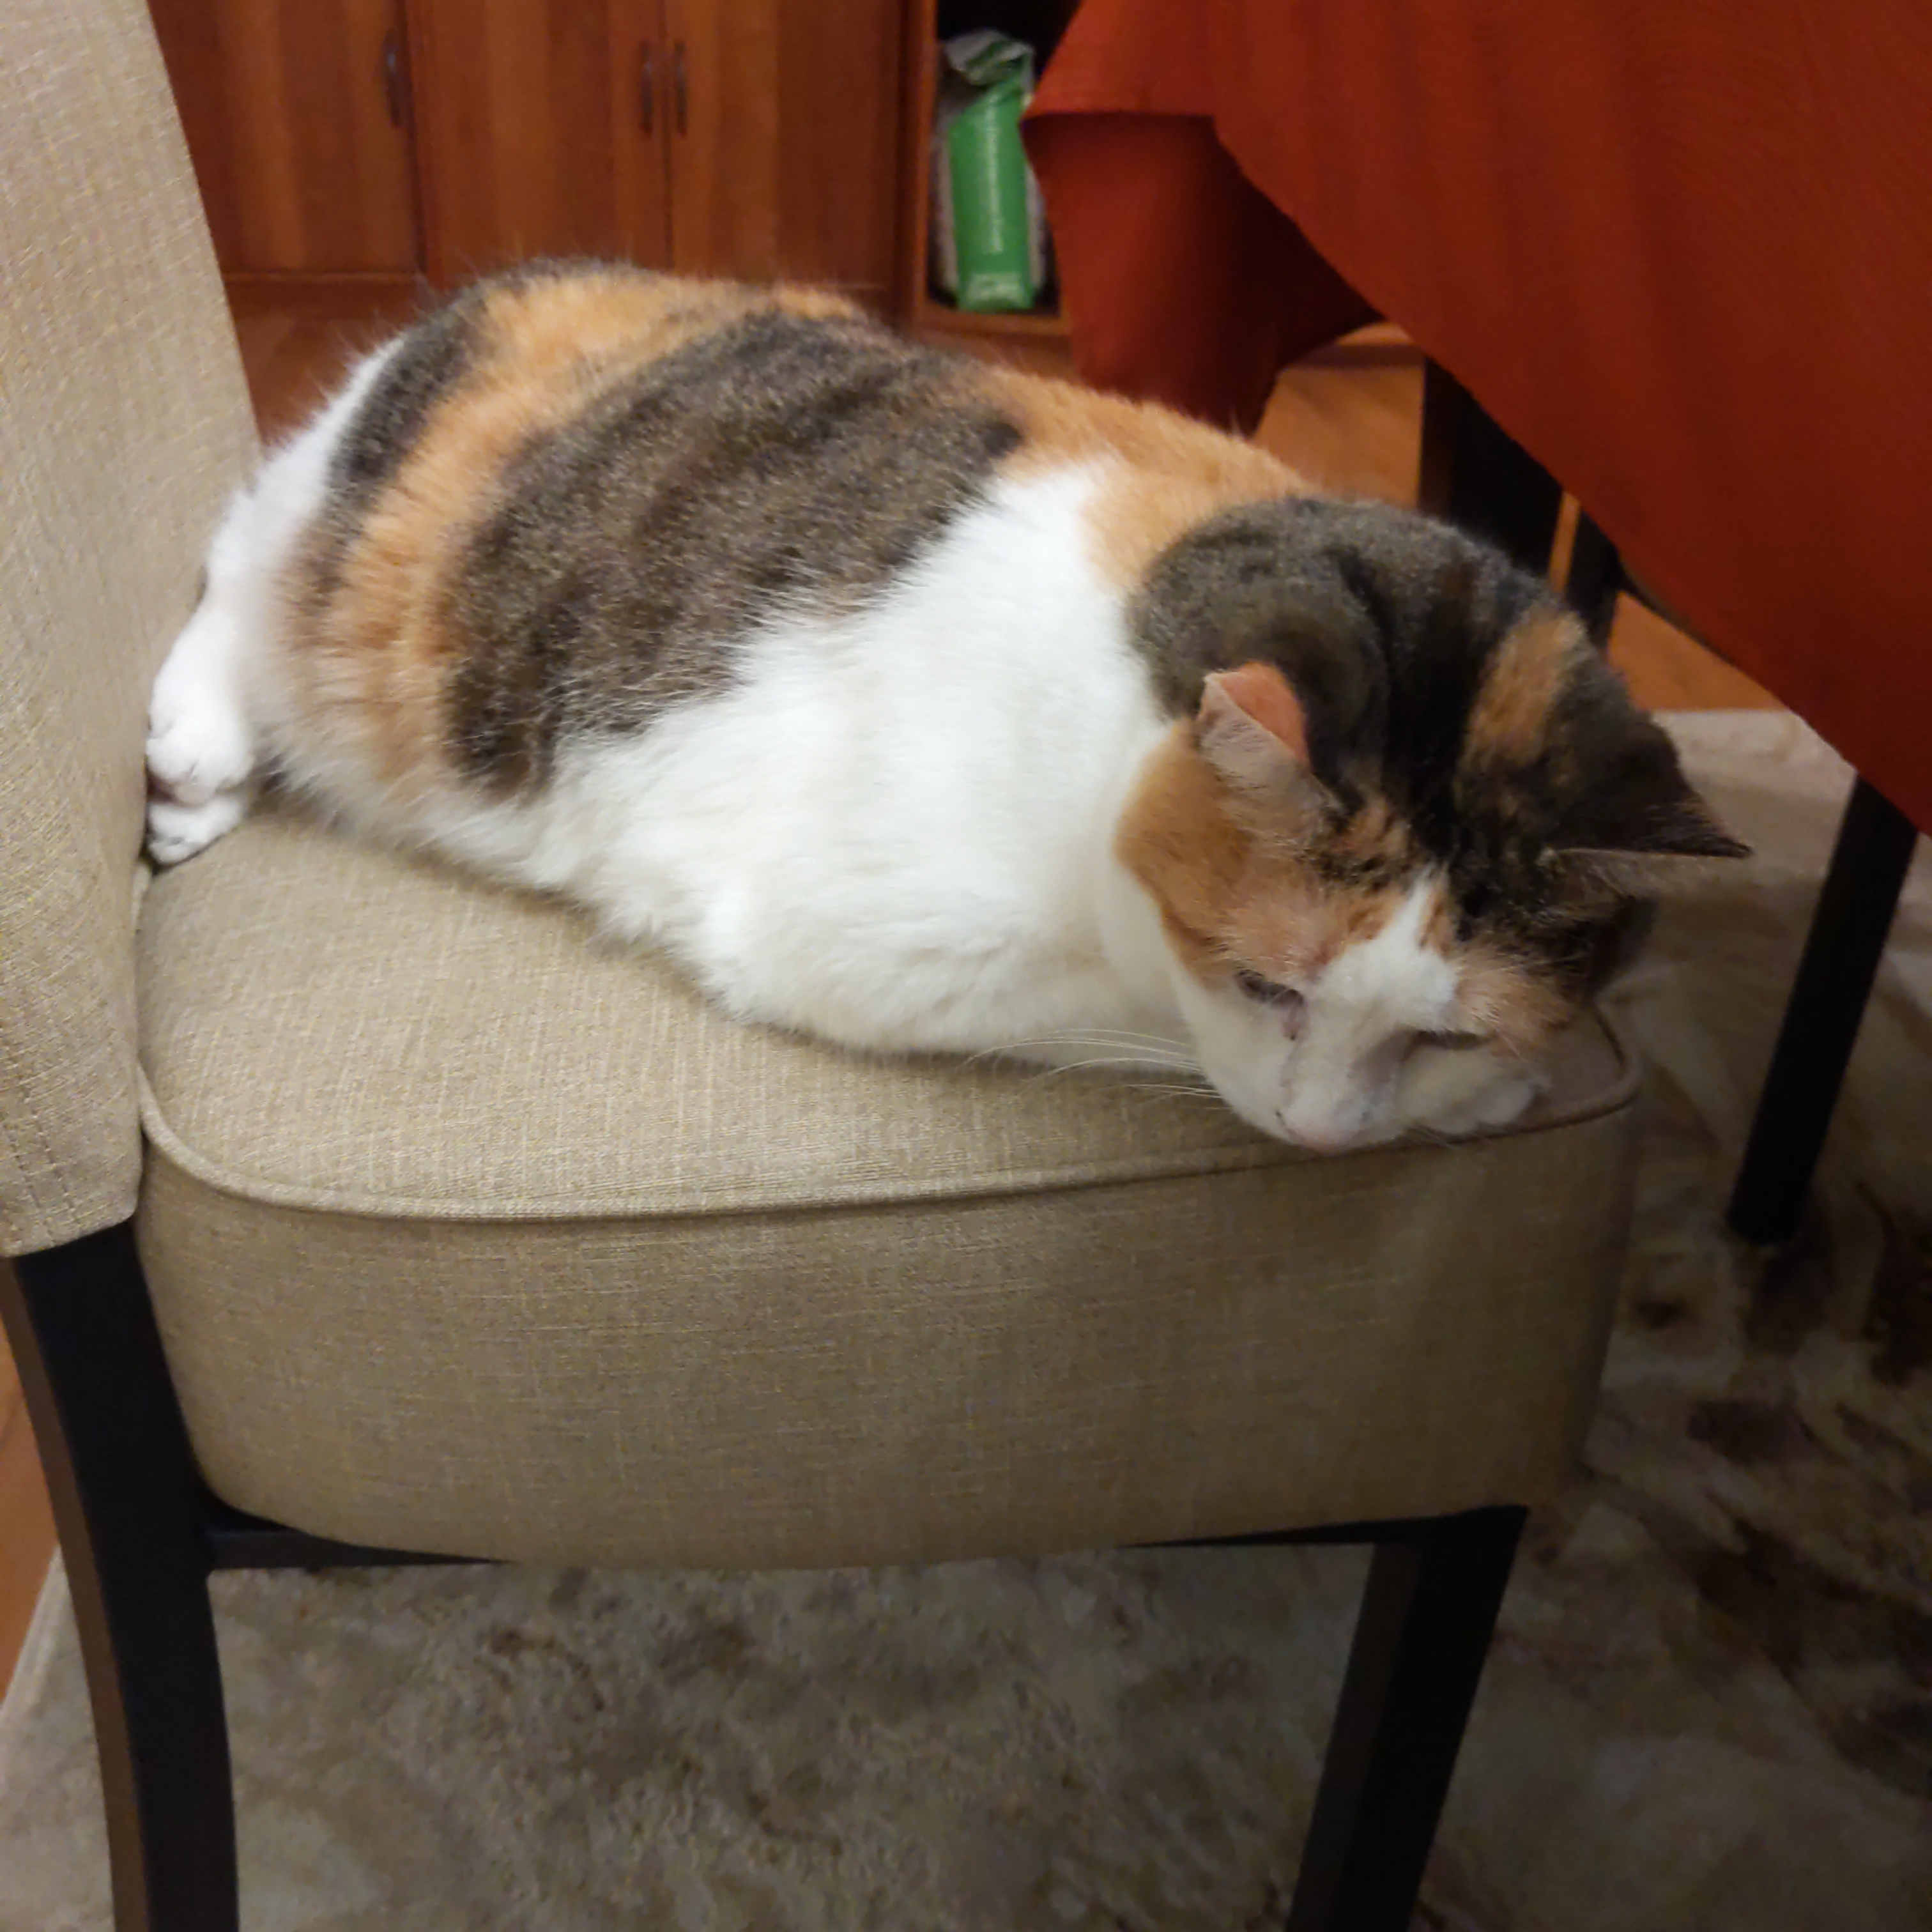Calico: (143, 260, 1757, 1155)
